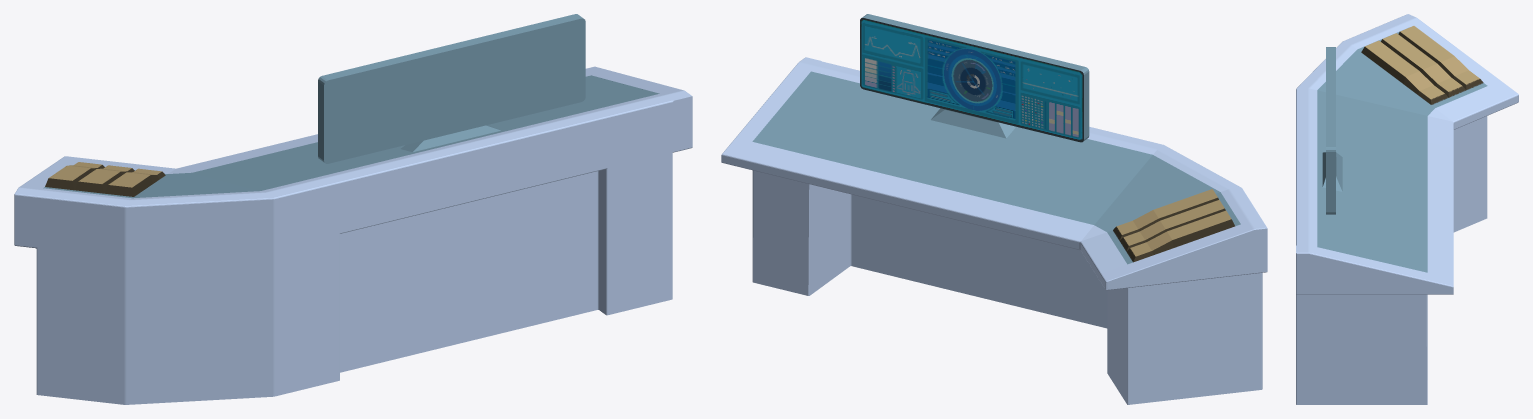
Rendered from SSCControlDesk2.fbx.
The picture shows the model from 3 angles, left to right: view 1: azimuth 30°, elevation 25°; view 2: azimuth 150°, elevation 25°; view 3: azimuth 270°, elevation 25°; orthographic projection. The views are drawn at different scales.
Visible parts, largest first — view 1: SSCControlDesk2_Base_LOD0, SSCControlDesk2_Detail_LOD0; view 2: SSCControlDesk2_Base_LOD0, SSCControlDesk2_Detail_LOD0; view 3: SSCControlDesk2_Base_LOD0, SSCControlDesk2_Detail_LOD0.
Part boxes in pixels (<box>): SSCControlDesk2_Base_LOD0: <box>14,66,692,404</box>; SSCControlDesk2_Detail_LOD0: <box>43,14,659,198</box>; SSCControlDesk2_Base_LOD0: <box>721,57,1267,404</box>; SSCControlDesk2_Detail_LOD0: <box>752,14,1240,264</box>; SSCControlDesk2_Base_LOD0: <box>1296,14,1518,404</box>; SSCControlDesk2_Detail_LOD0: <box>1317,26,1487,272</box>.
Size of what is drawn, in the model's own units: 305 by 136 by 120.
